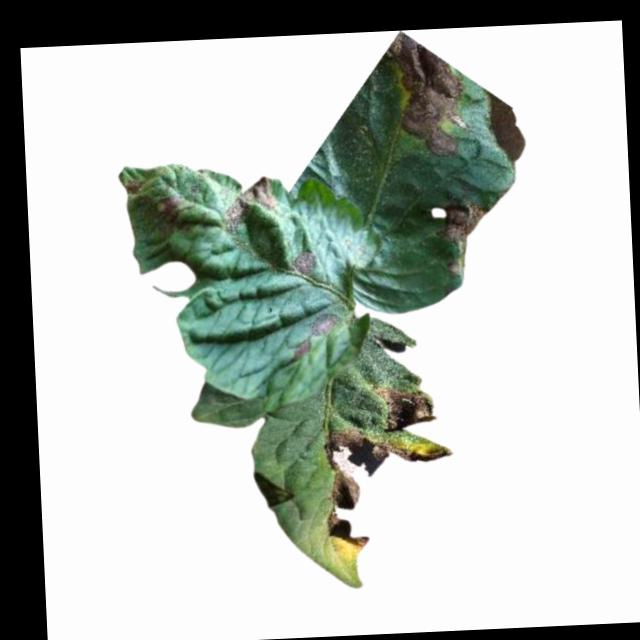Early_blight: (316, 425, 457, 561), (386, 27, 468, 160), (372, 381, 438, 433), (224, 175, 281, 230), (437, 198, 491, 250), (289, 314, 342, 360), (149, 192, 184, 224), (292, 251, 317, 280), (124, 180, 143, 196)
